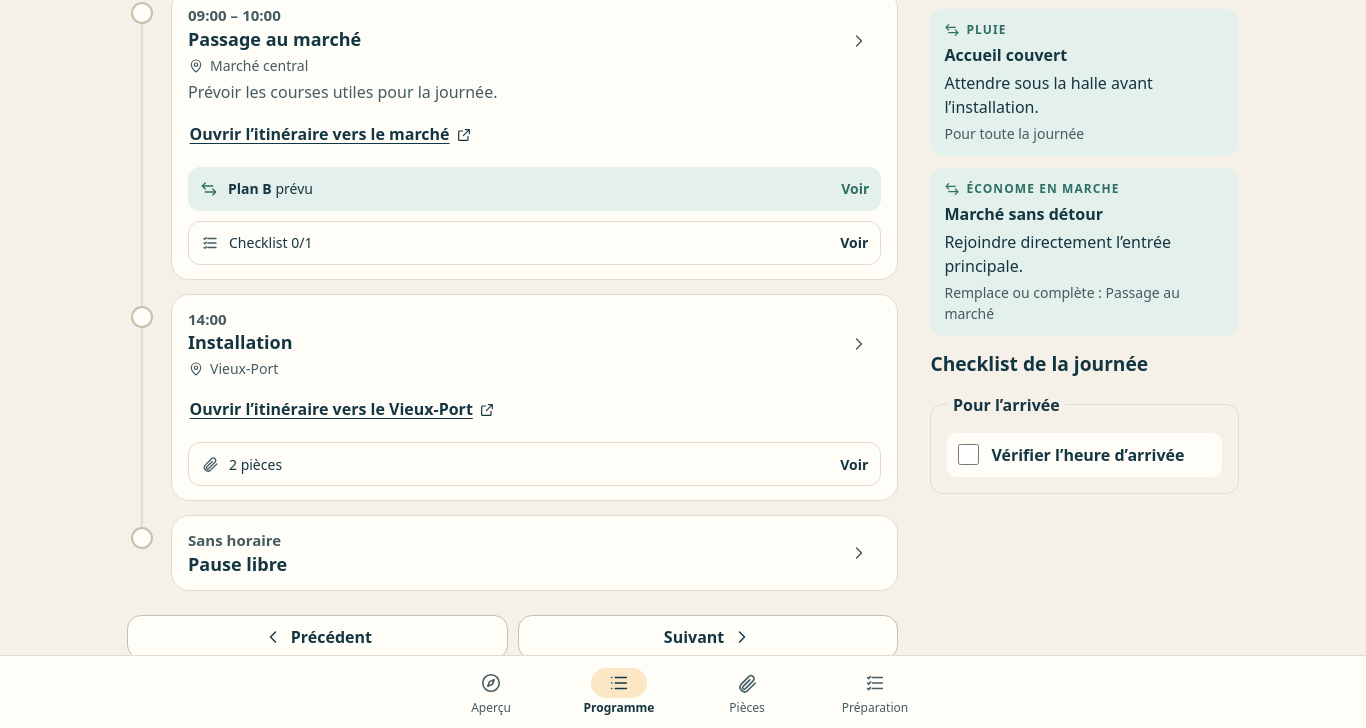
Test: déroulé, actions et compléments › ne répète pas la fiche complète de l’hôtel dans le programme
This screenshot has width=1366, height=728.
(page scrolled)
Expected: the heading "Maison du port" is not shown
Click the button named "Ouvrir l’étape Installation".
click(859, 344)  # box [837, 322, 881, 366]
(page scrolled)
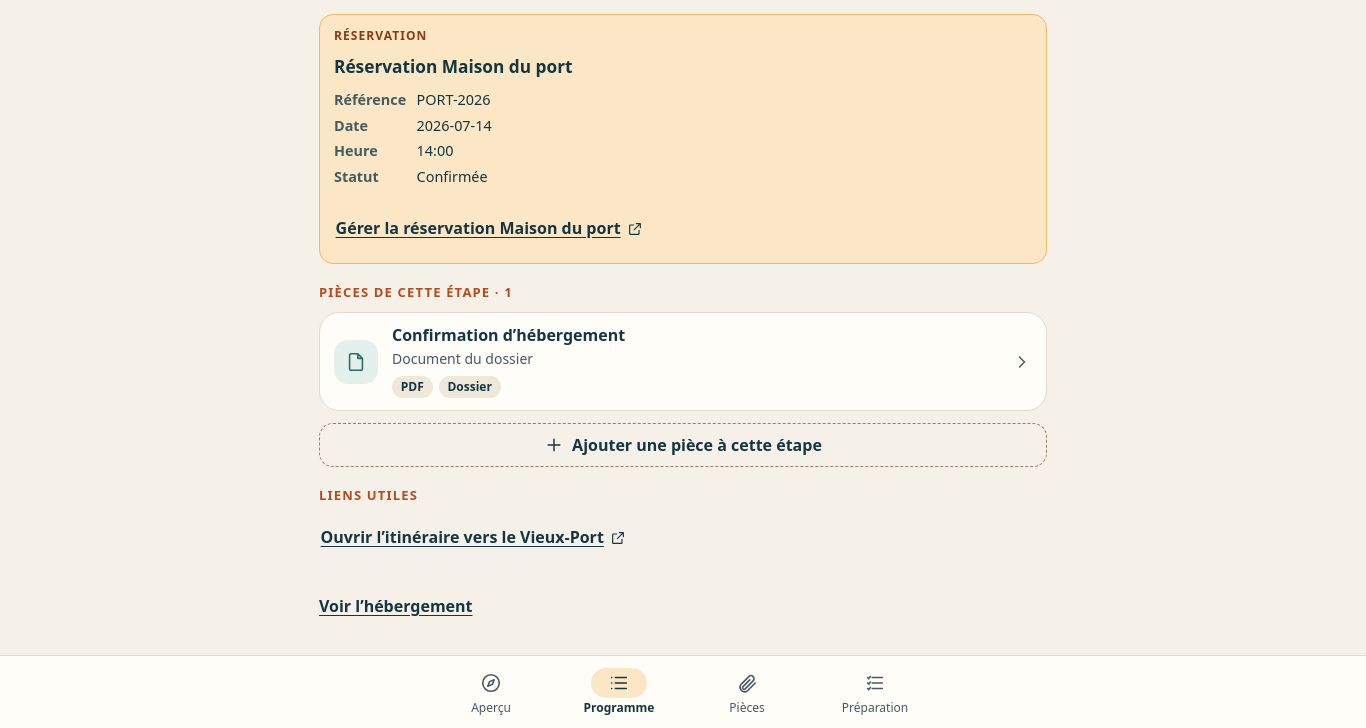
Now the button with aria-label "Voir l’hébergement associé à Installation" is shown, box [319, 584, 1047, 628]
